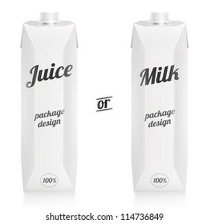carton: (122, 5, 192, 195), (16, 9, 82, 197)
